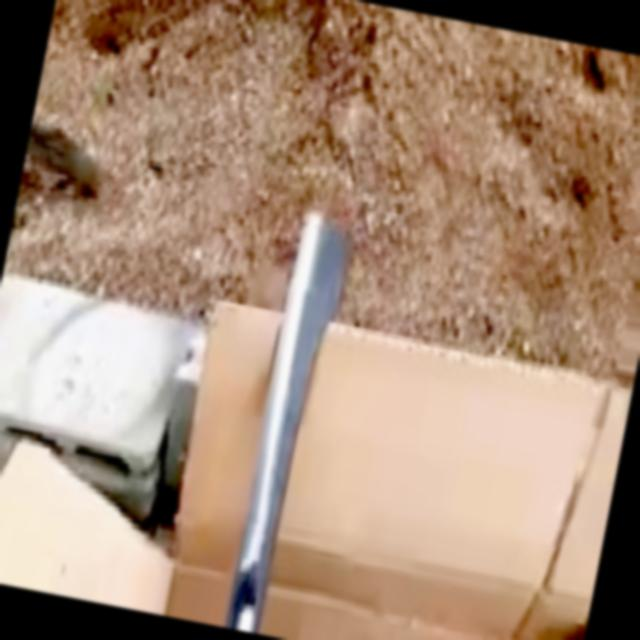eto: (229, 215, 351, 633)
